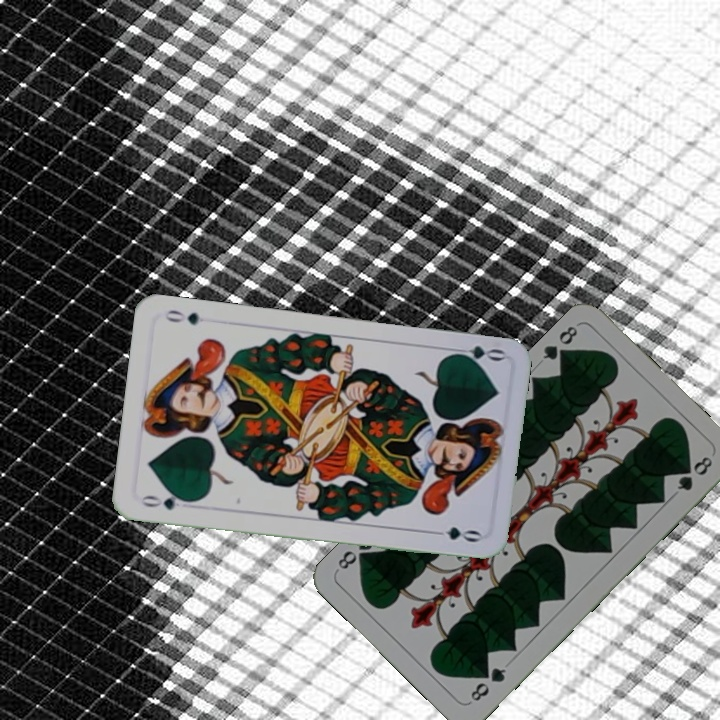G8: (538, 321, 581, 366), (466, 663, 509, 704)
GO: (446, 341, 506, 367), (136, 490, 196, 513)
